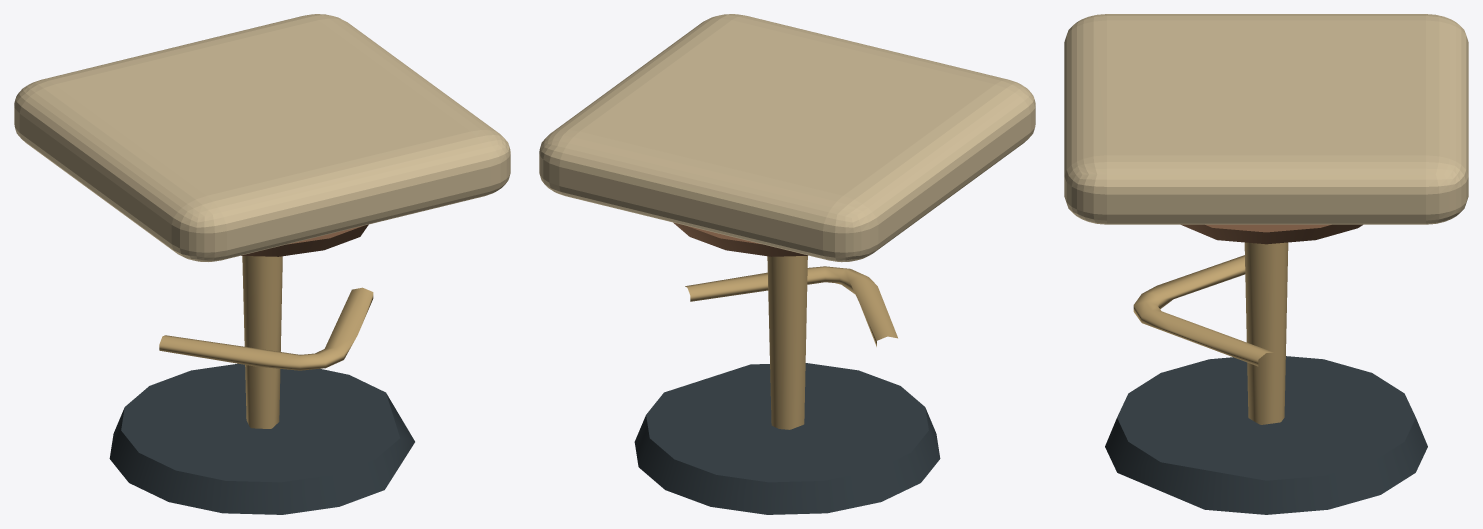
The model's file is chair-6-4.lod.glb.
3 views of the same model, side by side, from view 1: azimuth 30°, elevation 25°; view 2: azimuth 150°, elevation 25°; view 3: azimuth 270°, elevation 25° (orthographic). The views are drawn at different scales.
Visible parts, largest first — view 1: tailored-cushion, part (×3); view 2: tailored-cushion, part (×3); view 3: tailored-cushion, part (×3).
Boxes of the visible parts, <box> form: tailored-cushion: <box>14,14,510,261</box>; part (×3): <box>109,224,414,514</box>; tailored-cushion: <box>539,14,1035,262</box>; part (×3): <box>634,222,940,514</box>; tailored-cushion: <box>1064,14,1468,224</box>; part (×3): <box>1105,224,1427,514</box>.
Size of the model in its own units: 1 by 1 by 1.
